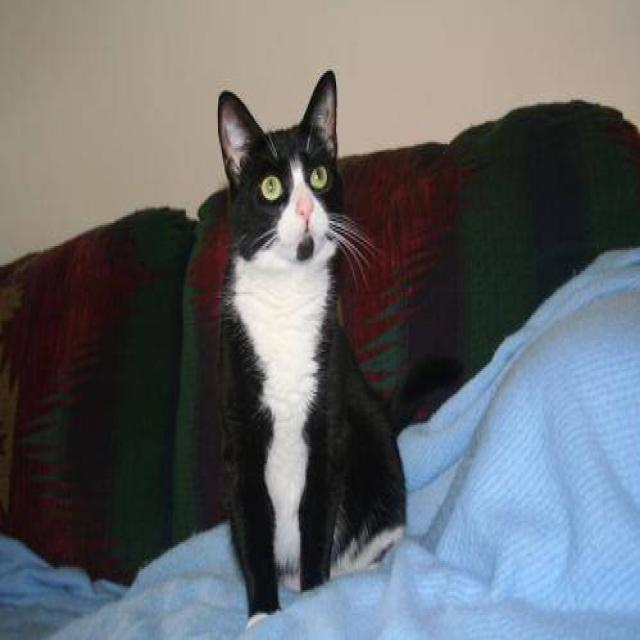cat: (213, 68, 463, 630)
